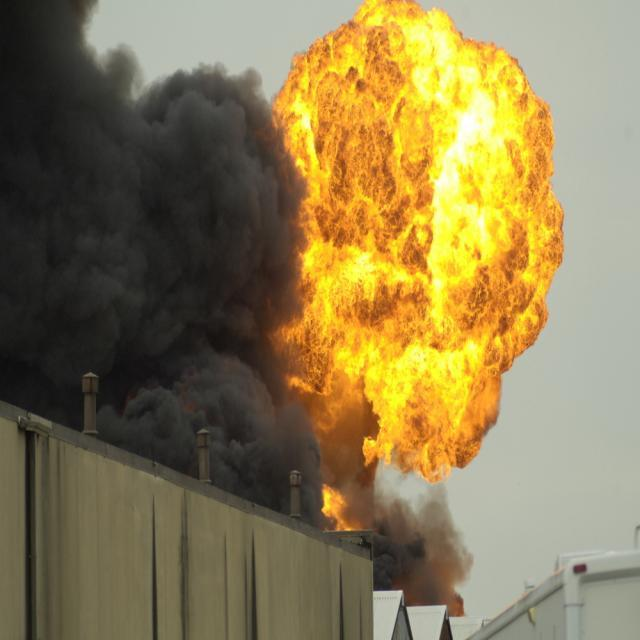fire: (272, 8, 563, 576)
